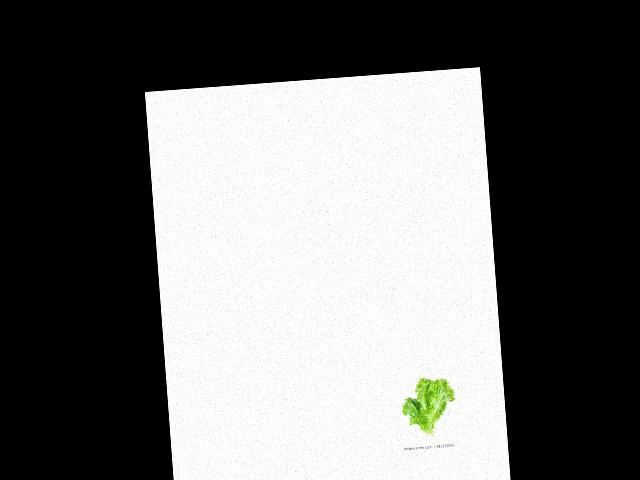lettuce: (398, 374, 457, 442)
